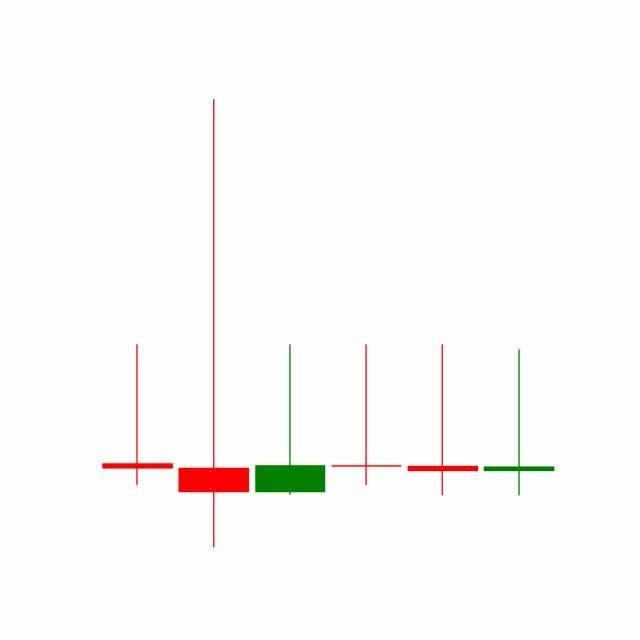Spinning Top: (404, 344, 482, 499)
